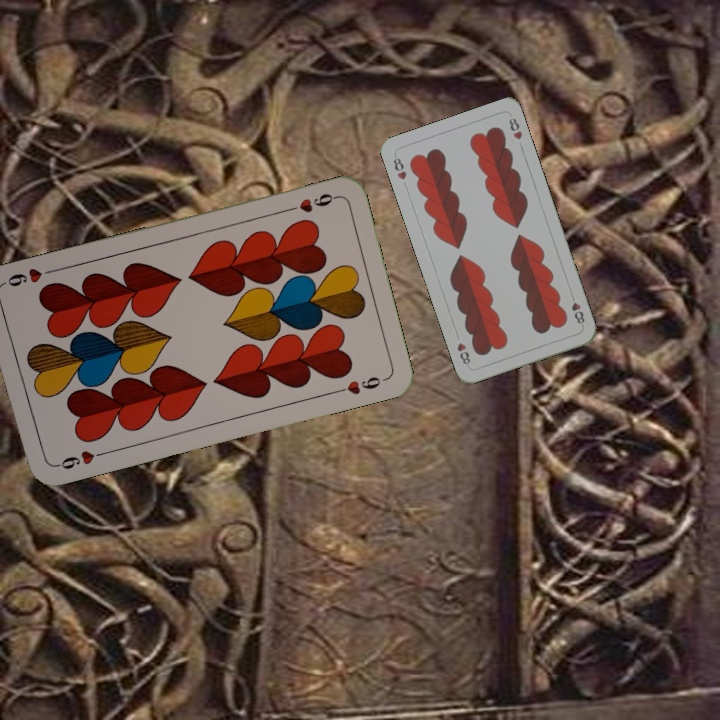H8: (389, 151, 409, 182), (567, 298, 587, 327)
H9: (282, 189, 341, 216), (49, 446, 108, 472)
